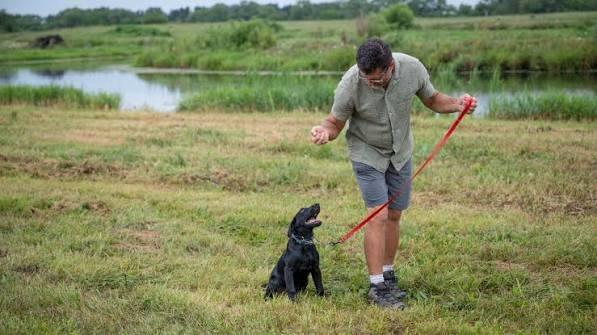adult_dog: (263, 202, 326, 303)
non-dog: (310, 35, 478, 311)
